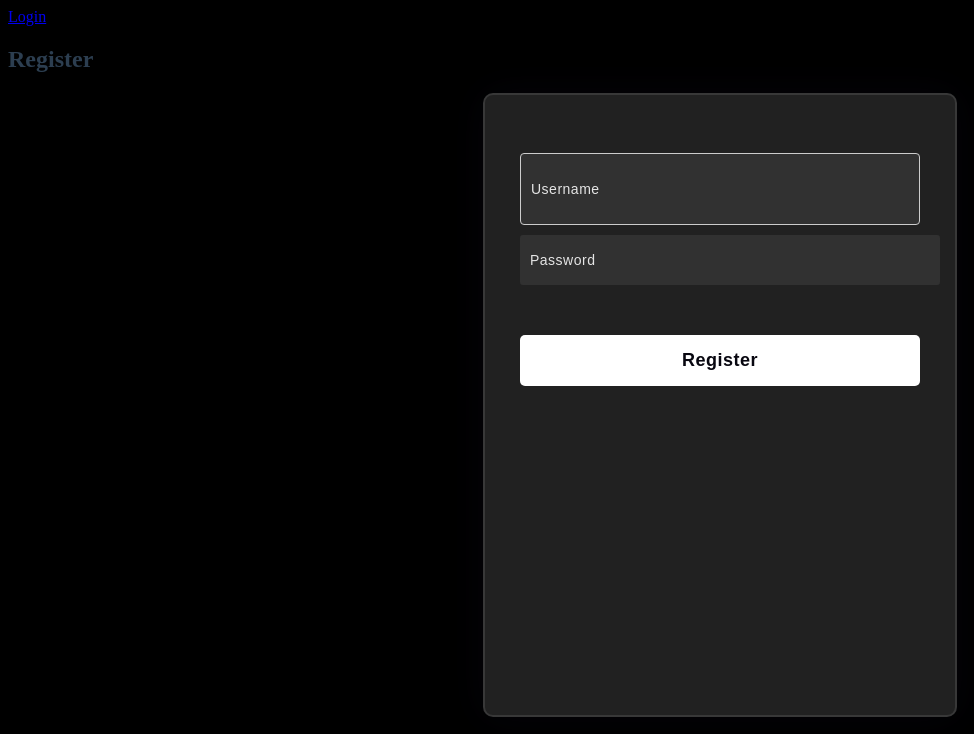
Register Component Basic Tests › shows error for short password
Note: Try to register with short password
In the field with placeholder "Username": (720, 189) [520, 153, 920, 225], type "newuser"
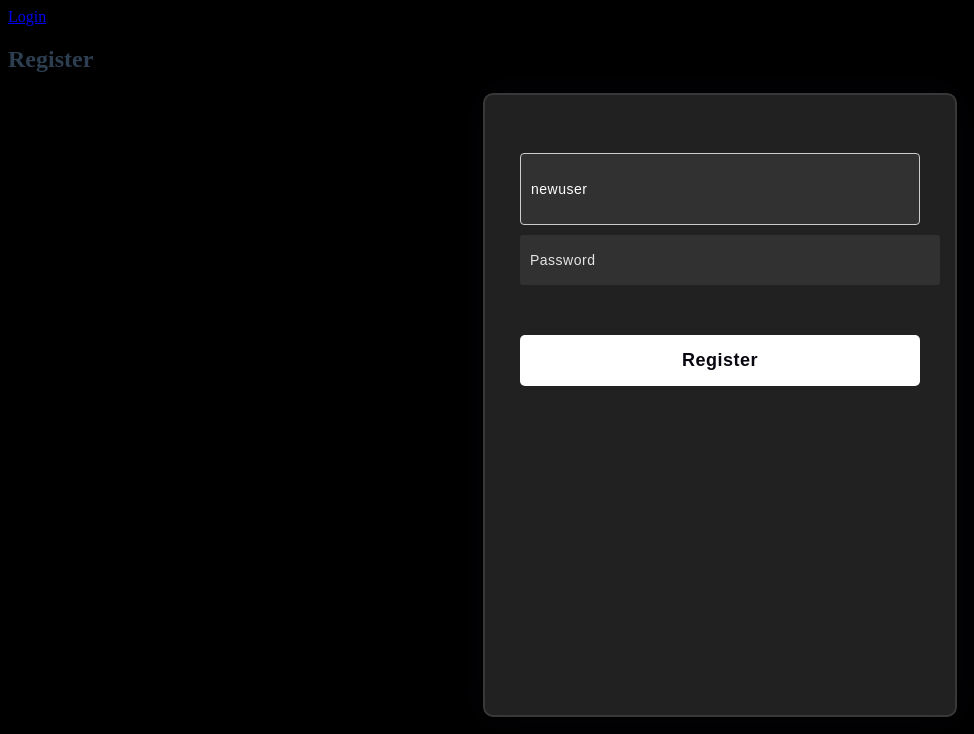
In the password field with placeholder "Password": (730, 260) [520, 235, 940, 285], type "short"
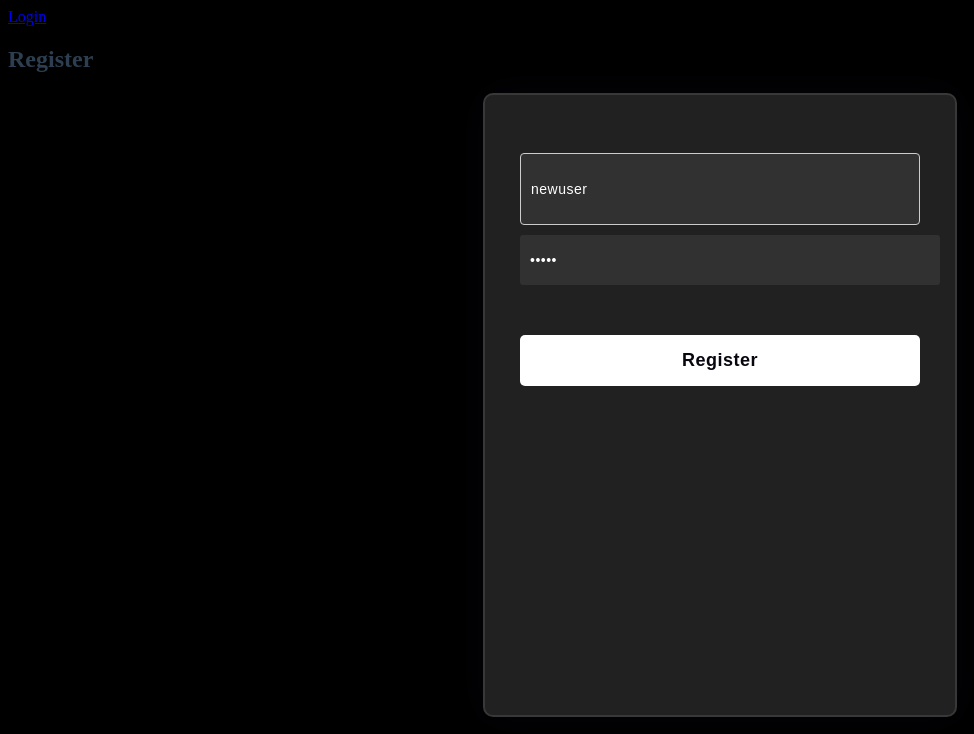
Click the button "Register": (720, 360) [520, 335, 920, 386]
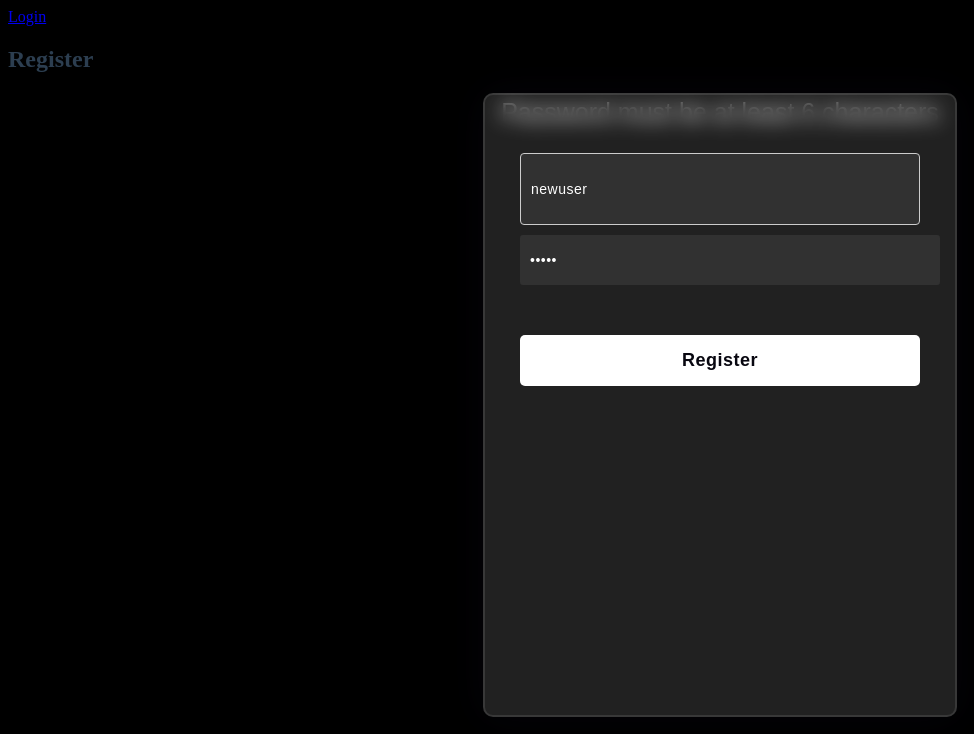
Now the text "Password must be at least 6 characters" is shown, box [501, 98, 939, 126]
